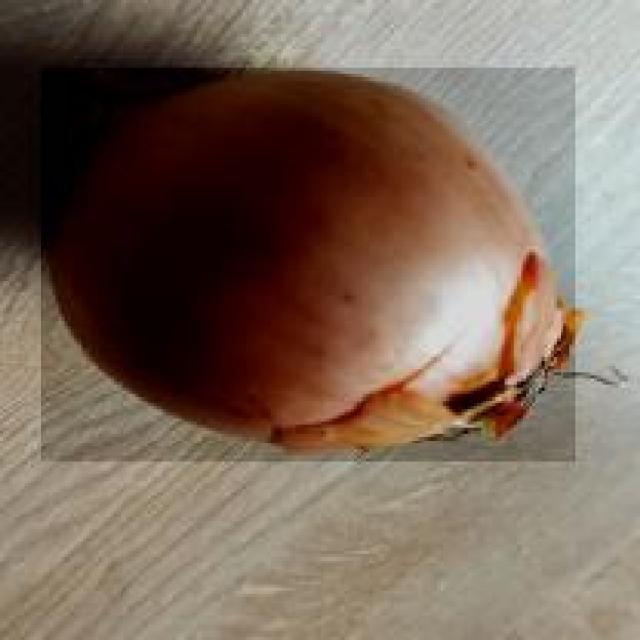onion: (40, 64, 578, 462)
